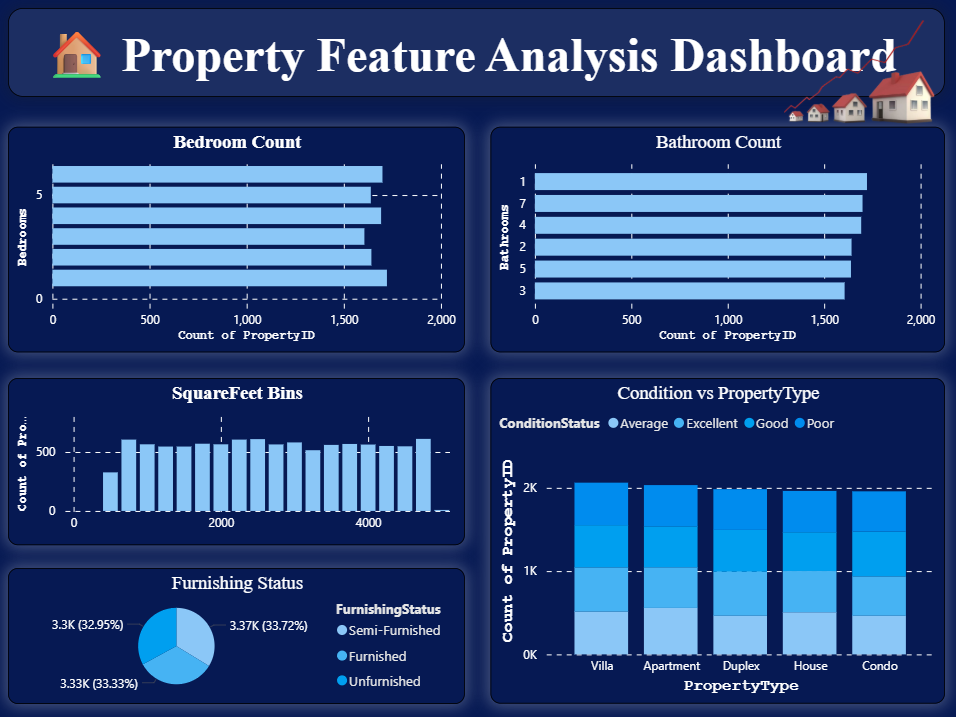

Layout of this report page (visuals, bound fields, positions):
{"tool":"powerbi","page":{"name":"Page 2","canvas":[960,720],"ordinal":1},"visuals":[{"type":"textbox","box":[10,10,937.1,88.6],"z":0},{"type":"columnChart","title":"SquareFeet Bins","fields":{"Category":["Properties.SquareFeet (bins)"],"Y":["CountNonNull(Properties.PropertyID)"]},"box":[10,380,457.1,167.1],"z":1000},{"type":"barChart","title":"Bedroom Count","fields":{"Category":["Properties.Bedrooms"],"Y":["CountNonNull(Properties.PropertyID)"]},"box":[10,128.6,457.1,225.7],"z":2000},{"type":"barChart","title":"Bathroom Count","fields":{"Y":["CountNonNull(Properties.PropertyID)"],"Category":["Properties.Bathrooms"]},"box":[492.9,128.6,454.3,225.7],"z":3000},{"type":"columnChart","title":"Condition vs PropertyType","fields":{"Category":["Properties.PropertyType"],"Y":["CountNonNull(Properties.PropertyID)"],"Series":["Properties.ConditionStatus"]},"box":[492.9,380,454.3,325.7],"z":4000},{"type":"pieChart","title":"Furnishing Status","fields":{"Category":["Properties.FurnishingStatus"],"Y":["CountNonNull(Properties.PropertyID)"]},"box":[10,570,457.1,135.7],"z":5000},{"type":"image","box":[765.7,22.9,194.3,115.7],"z":6000}]}

Visuals, with their boxes in screenshot pixels (x1, y1, x2, y2), scaled from the page's 960x720 canvas onto the 956x717 screenshot:
textbox: box=[10, 10, 943, 98]
"SquareFeet Bins" columnChart: box=[10, 378, 465, 545]
"Bedroom Count" barChart: box=[10, 128, 465, 353]
"Bathroom Count" barChart: box=[491, 128, 943, 353]
"Condition vs PropertyType" columnChart: box=[491, 378, 943, 703]
"Furnishing Status" pieChart: box=[10, 568, 465, 703]
image: box=[763, 23, 955, 138]
